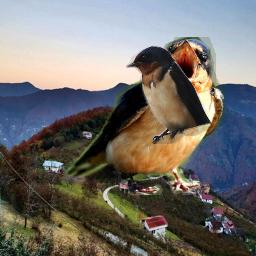Swallow: (63, 37, 226, 195), (126, 45, 212, 144)
